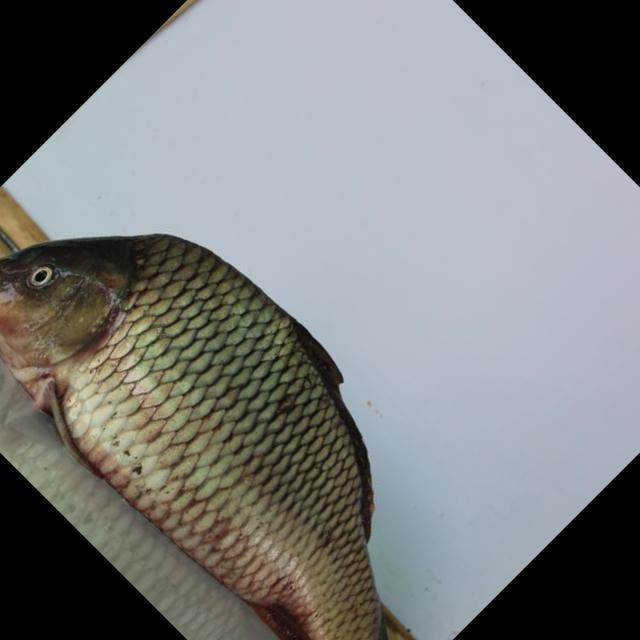CommonCarp: (2, 225, 382, 640)
